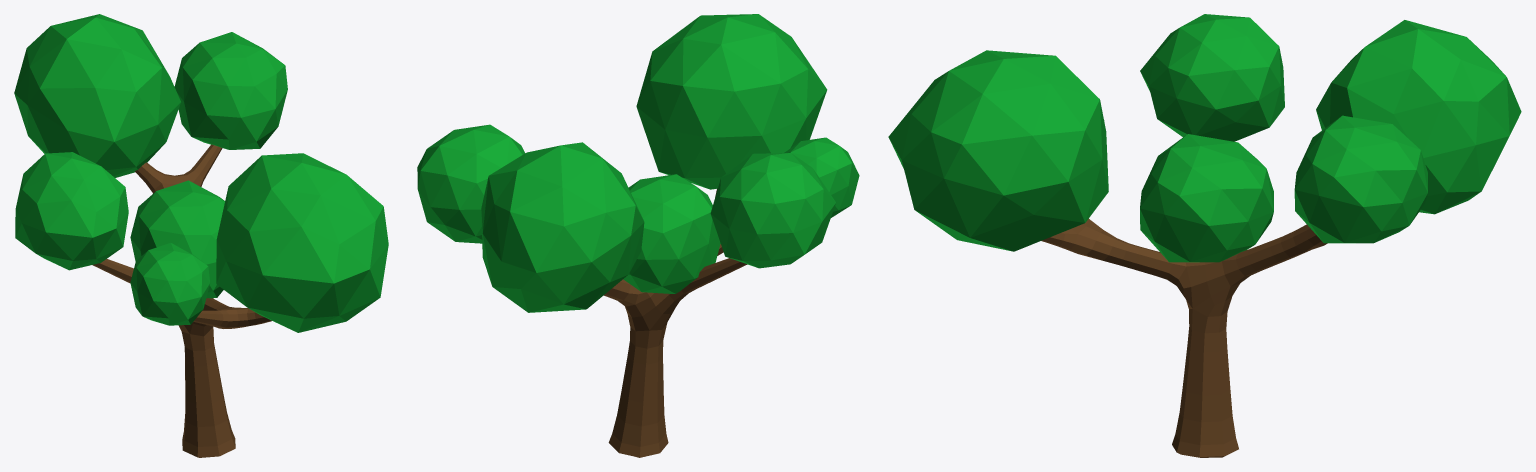
The model's file is Park2_T6.glb.
The picture shows the model from 3 angles, left to right: view 1: azimuth 30°, elevation 25°; view 2: azimuth 150°, elevation 25°; view 3: azimuth 270°, elevation 25°; orthographic projection. The views are drawn at different scales.
Parts seen in each view (by area): view 1: Park2-T6; view 2: Park2-T6; view 3: Park2-T6.
Part boxes in pixels (<box>): Park2-T6: <box>14,14,388,457</box>; Park2-T6: <box>417,14,859,457</box>; Park2-T6: <box>888,14,1521,457</box>.
Bounding box in the file's own units: 30.13 × 32.28 × 44.89.
